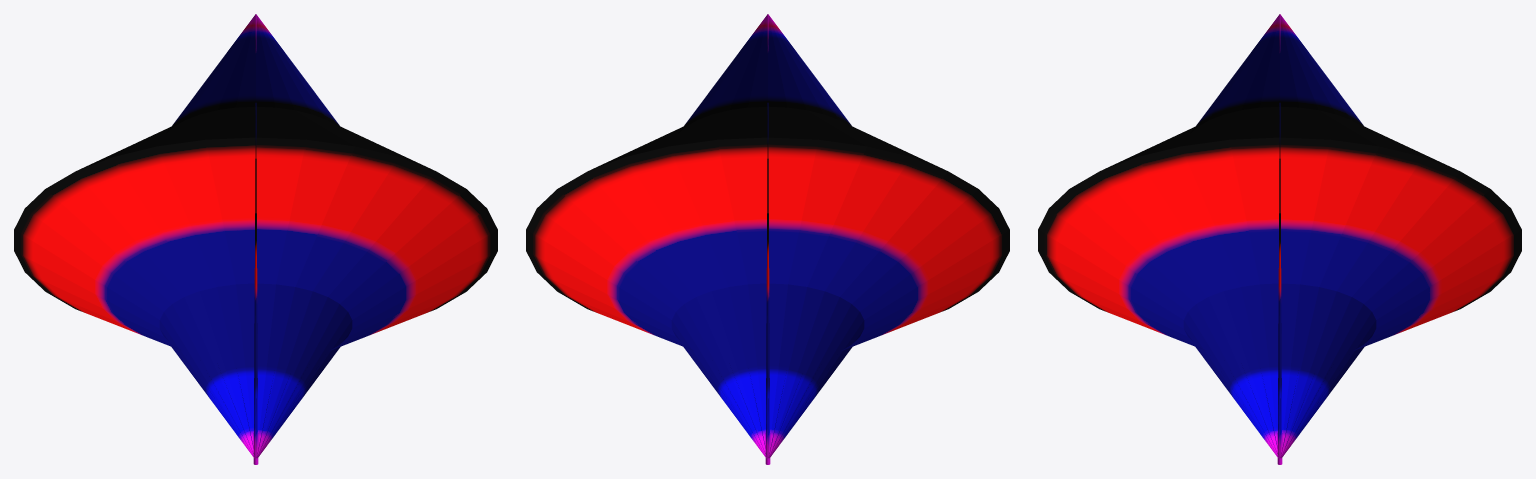
3 views of the same model, side by side, from view 1: azimuth 30°, elevation 25°; view 2: azimuth 150°, elevation 25°; view 3: azimuth 270°, elevation 25° (orthographic).
Visible parts, largest first — view 1: algeomath; view 2: algeomath; view 3: algeomath.
Part boxes in pixels (box(x1,y1,x2,y2)): algeomath: box(14, 14, 497, 464); algeomath: box(526, 14, 1009, 464); algeomath: box(1038, 14, 1521, 464).
Size of the model in its own units: 9.82 by 10.02 by 9.76.
Materials: 1 (1 with a texture image).
